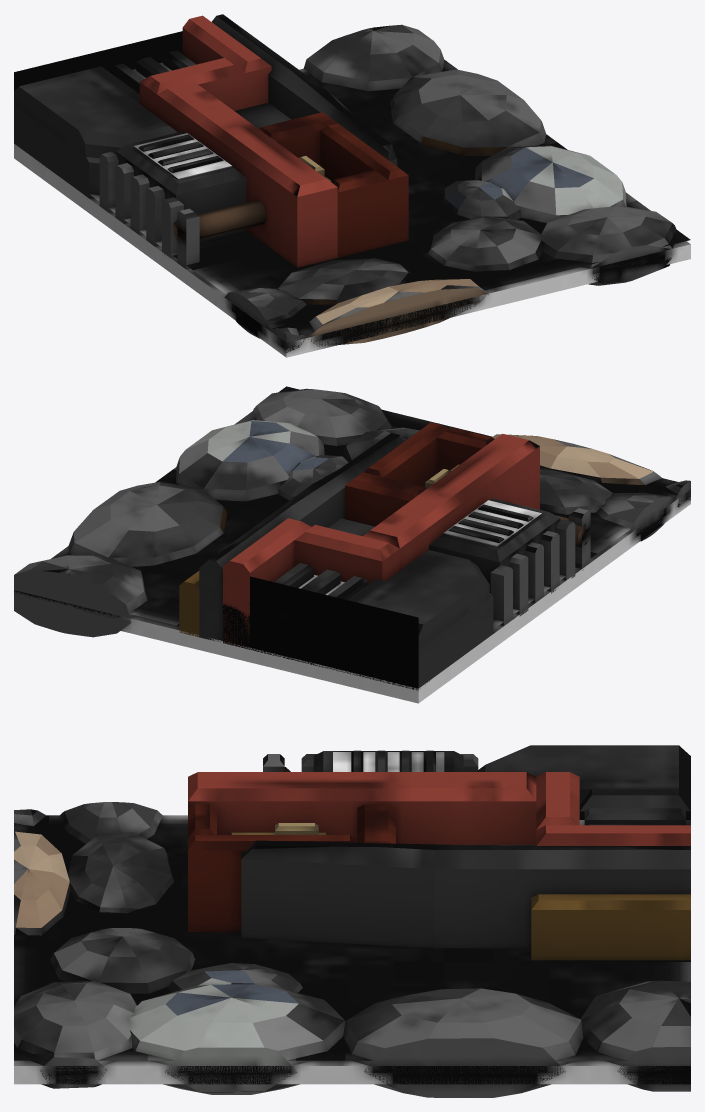
File: newsh2-55.glb
The picture shows the model from 3 angles, top to bottom: view 1: azimuth 30°, elevation 25°; view 2: azimuth 150°, elevation 25°; view 3: azimuth 270°, elevation 25°; orthographic projection. The views are drawn at different scales.
Parts seen in each view (by area): view 1: newsh2-55; view 2: newsh2-55; view 3: newsh2-55.
Boxes of the visible parts, x1,y1,x2,y2 form: newsh2-55: (14, 14, 690, 357); newsh2-55: (14, 386, 690, 703); newsh2-55: (14, 745, 690, 1097).
Bounding box in the file's own units: 2 × 0.5759 × 2.33.
Materials: 16 (16 with a texture image).
